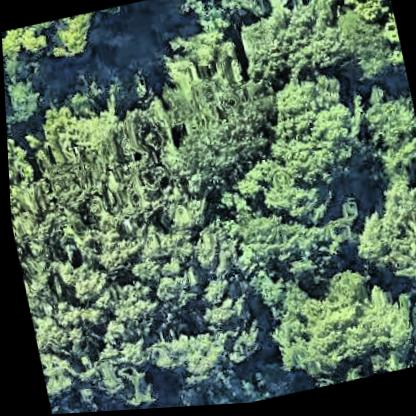tree-top: (211, 144, 360, 300), (264, 263, 414, 391), (146, 69, 280, 204), (258, 65, 365, 194), (230, 0, 352, 98), (338, 182, 416, 294), (139, 313, 230, 389), (354, 82, 416, 188), (331, 3, 395, 85), (46, 11, 100, 66), (1, 21, 56, 71), (3, 73, 50, 128), (334, 0, 392, 29)
